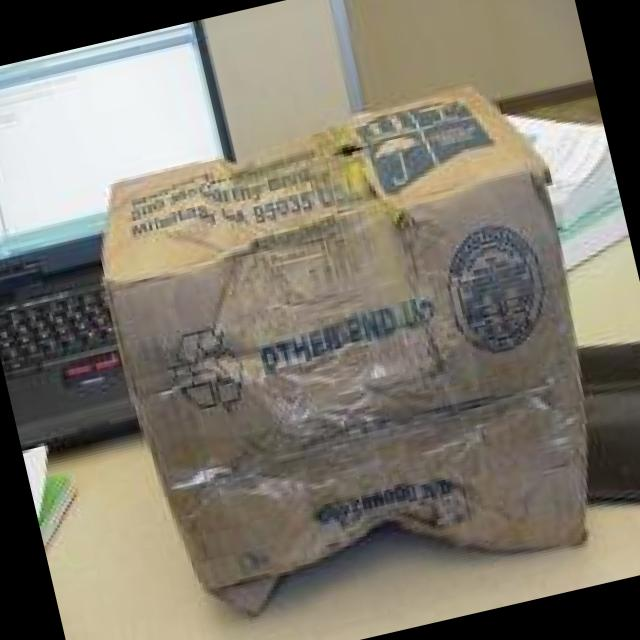box: (102, 82, 589, 614)
crushed: (224, 508, 463, 617), (197, 235, 313, 380), (385, 192, 459, 380)
opened: (329, 132, 369, 165)
